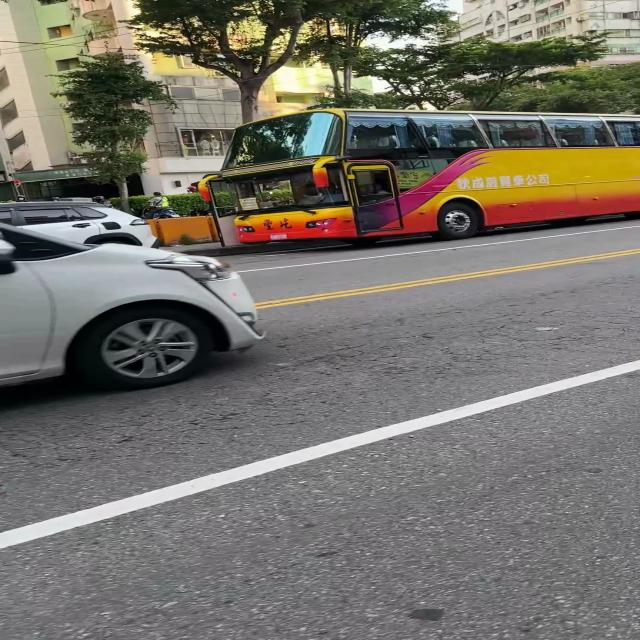bus: (205, 110, 640, 242)
car: (0, 224, 262, 389), (0, 201, 159, 246)
